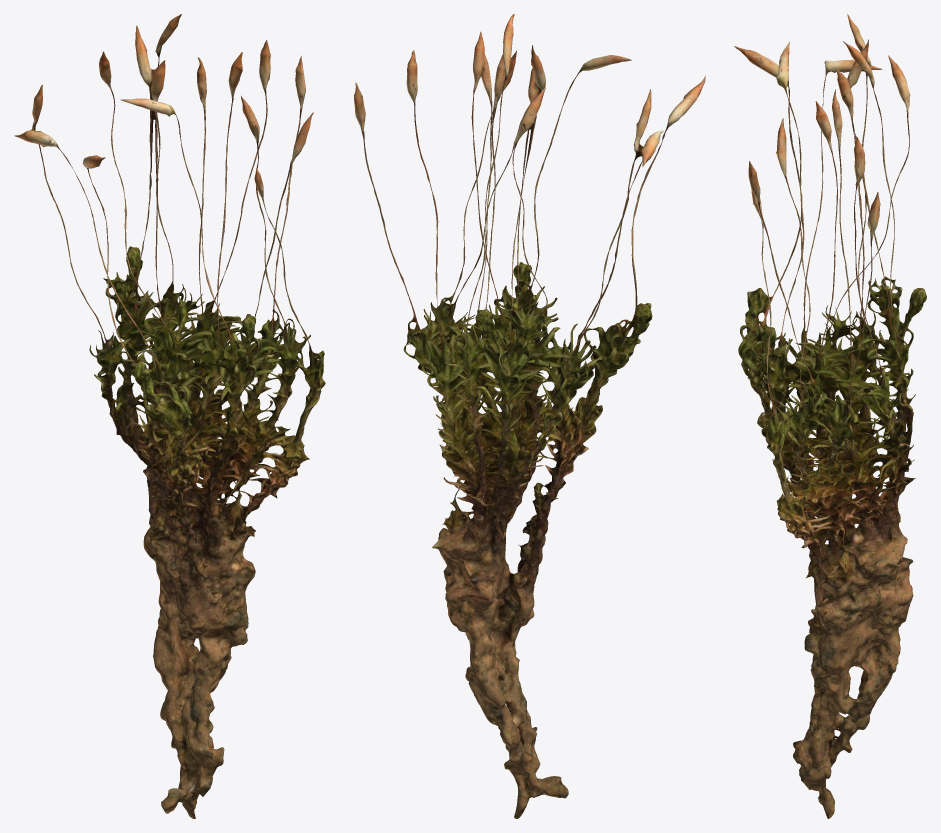
The model's file is moss-touch.glb.
3 views of the same model, side by side, from view 1: azimuth 30°, elevation 25°; view 2: azimuth 150°, elevation 25°; view 3: azimuth 270°, elevation 25° (orthographic). The views are drawn at different scales.
Parts seen in each view (by area): view 1: Object_6; view 2: Object_6; view 3: Object_6.
Part boxes in pixels (x1=…): Object_6: x1=14, y1=14, x2=325, y2=818; Object_6: x1=354, y1=14, x2=705, y2=818; Object_6: x1=734, y1=14, x2=926, y2=818.
Bounding box in the file's own units: 0.3757 × 1 × 0.2255.
1 material, 1 textured.
